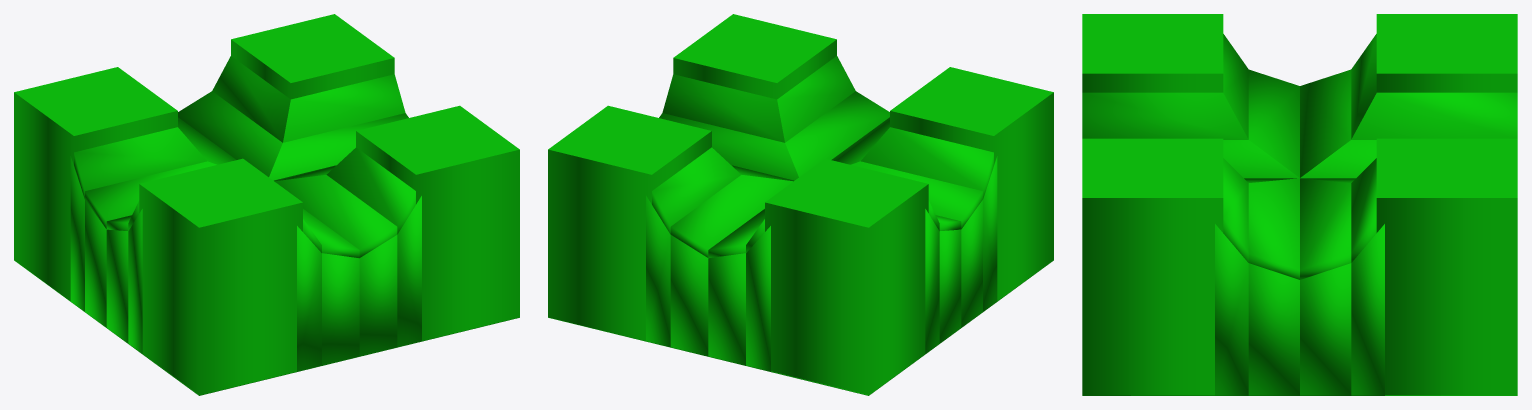
File: UCXKugelbahn.43.fbx
The picture shows the model from 3 angles, left to right: view 1: azimuth 30°, elevation 25°; view 2: azimuth 150°, elevation 25°; view 3: azimuth 270°, elevation 25°; orthographic projection. The views are drawn at different scales.
Visible parts, largest first — view 1: UCX_Kugelbahn.43_low; view 2: UCX_Kugelbahn.43_low; view 3: UCX_Kugelbahn.43_low.
Part boxes in pixels (x1,y1,x2,y2): UCX_Kugelbahn.43_low: (14, 14, 519, 395); UCX_Kugelbahn.43_low: (548, 14, 1053, 395); UCX_Kugelbahn.43_low: (1082, 14, 1517, 395).
Size of the model in its own units: 0.05 by 0.0251 by 0.05.
